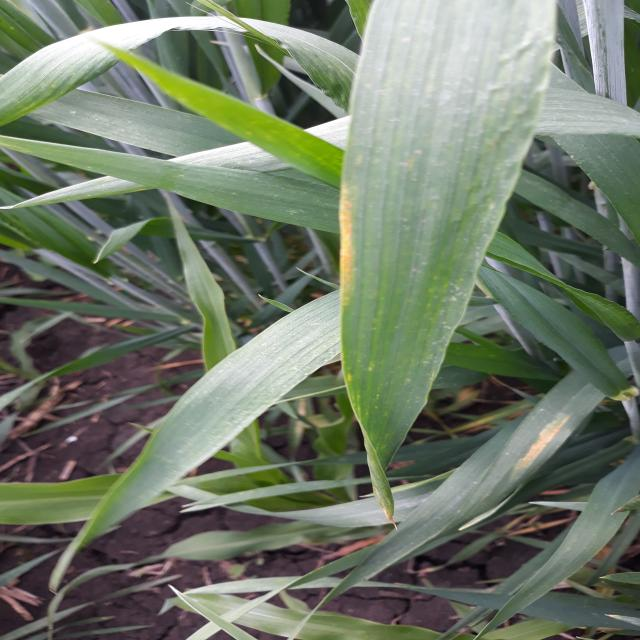yellow_rust: (320, 16, 529, 530), (416, 366, 598, 546)
